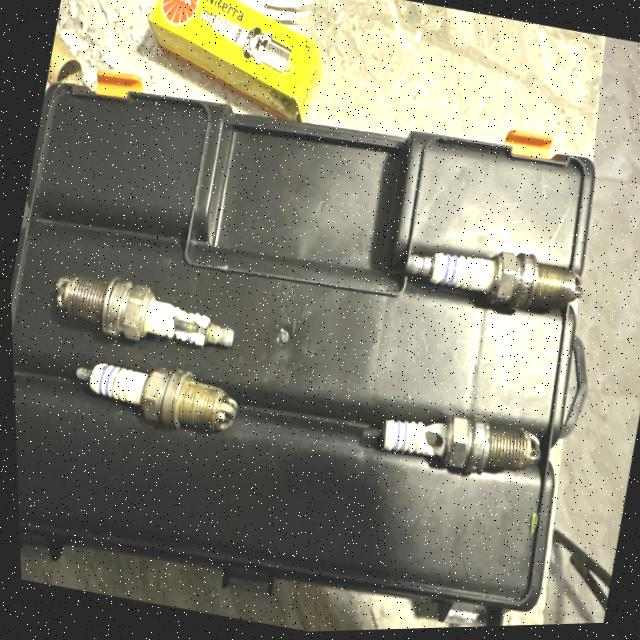damaged_spark-plug: (37, 252, 244, 369), (346, 387, 548, 493)
spark-plug: (373, 217, 586, 341), (49, 334, 245, 449)
